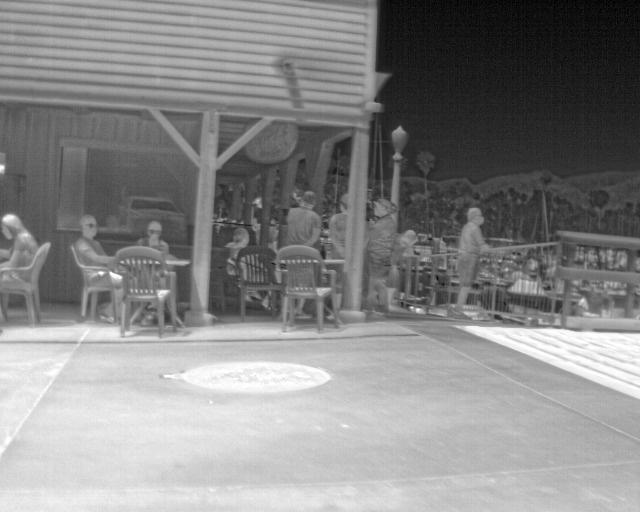empty: (446, 202, 499, 308), (360, 197, 399, 321), (277, 191, 325, 247), (72, 214, 117, 268), (0, 210, 39, 269), (323, 194, 350, 261), (136, 217, 171, 260), (225, 227, 253, 279)
